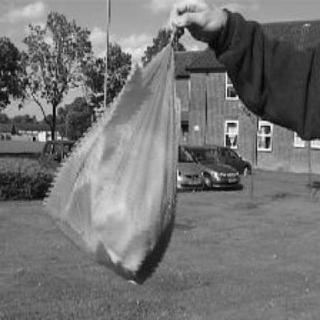other: (49, 36, 182, 282)
